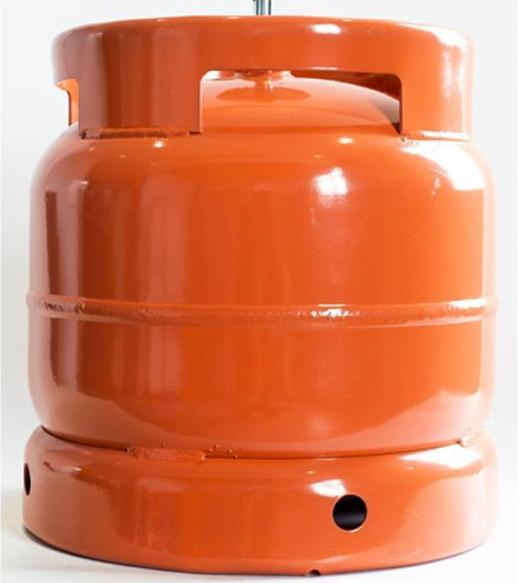cylinder: (1, 0, 528, 583)
